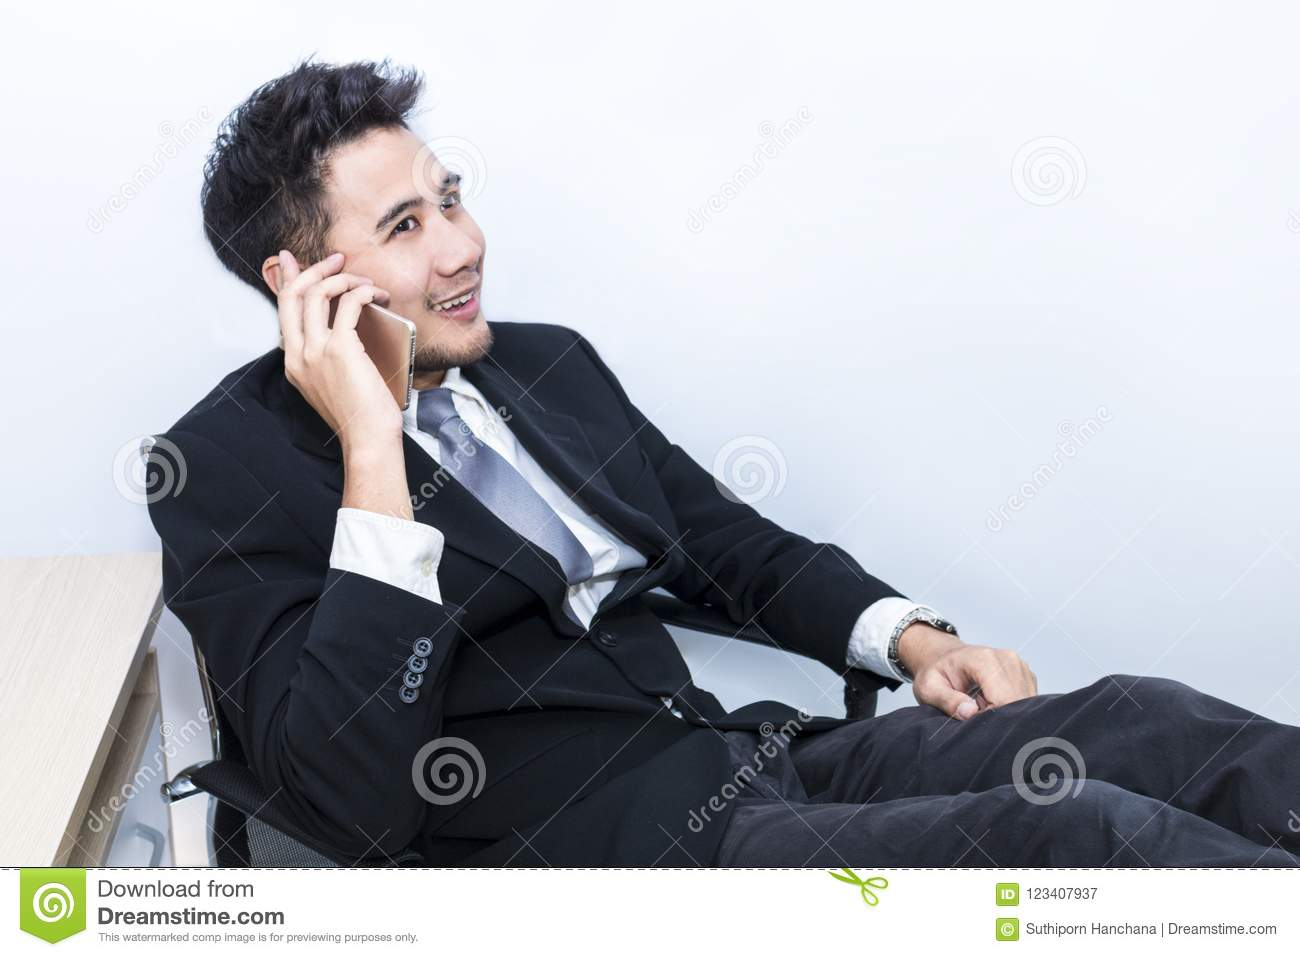phone: (267, 258, 417, 408)
talk: (272, 161, 492, 469)
